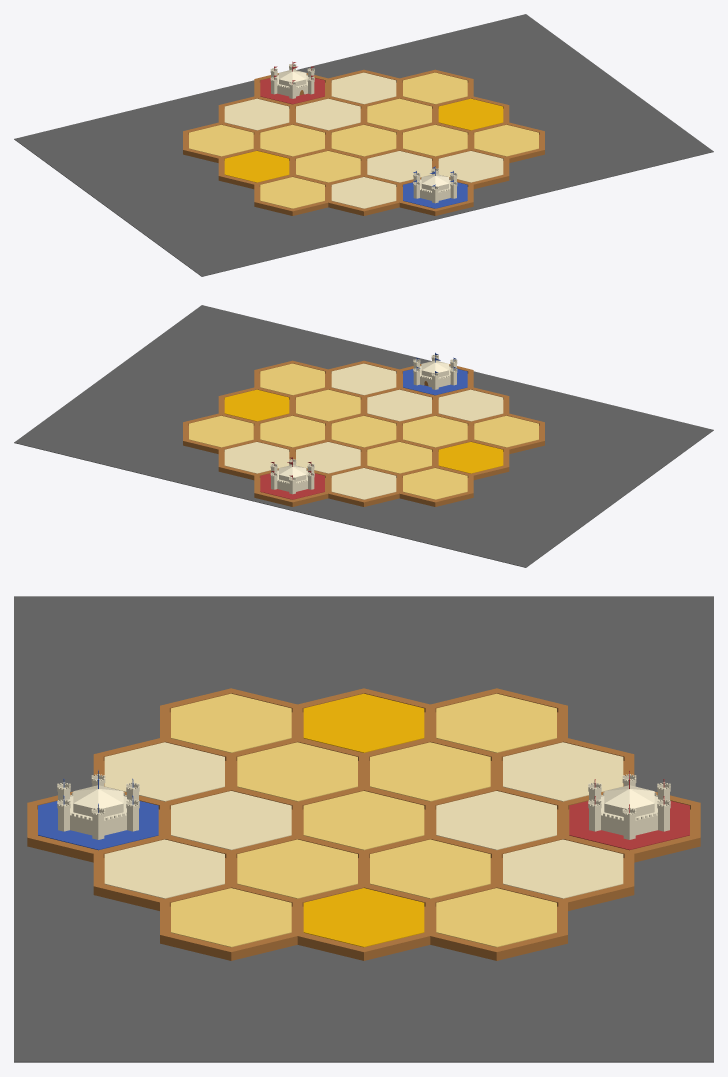
The model's file is r2c_board_n_castle.fbx.
3 views of the same model, one above another, from view 1: azimuth 30°, elevation 25°; view 2: azimuth 150°, elevation 25°; view 3: azimuth 270°, elevation 25° (orthographic). The views are drawn at different scales.
Visible parts, largest first — view 1: 개체_79, 개체_1, 개체_78, 개체_91, 개체_82, 개체_80, 개체_85, 개체_87, 개체_94, 개체_83, 개체_84, 개체_81 (+10 smaller); view 2: 개체_79, 개체_1, 개체_78, 개체_91, 개체_96, 개체_80, 개체_94, 개체_87, 개체_85, 개체_88, 개체_95, 개체_89 (+10 smaller); view 3: 개체_79, 개체_1, 개체_80, 개체_91, 개체_87, 개체_83, 개체_88, 개체_89, 개체_92, 개체_81, 개체_90, 개체_93 (+14 smaller).
Part boxes in pixels (left/top/right/bottom): 개체_79: left=14, top=14, right=713, bottom=276; 개체_1: left=183, top=69, right=544, bottom=213; 개체_78: left=183, top=82, right=544, bottom=215; 개체_91: left=224, top=151, right=289, bottom=182; 개체_82: left=331, top=72, right=396, bottom=104; 개체_80: left=438, top=98, right=503, bottom=130; 개체_85: left=224, top=98, right=289, bottom=130; 개체_87: left=331, top=125, right=396, bottom=156; 개체_94: left=331, top=177, right=396, bottom=208; 개체_83: left=367, top=98, right=431, bottom=130; 개체_84: left=296, top=98, right=360, bottom=130; 개체_81: left=403, top=72, right=467, bottom=104; 개체_79: left=14, top=305, right=713, bottom=567; 개체_1: left=183, top=360, right=544, bottom=504; 개체_78: left=183, top=373, right=544, bottom=506; 개체_91: left=438, top=442, right=503, bottom=473; 개체_96: left=331, top=363, right=396, bottom=395; 개체_80: left=224, top=389, right=289, bottom=421; 개체_94: left=438, top=389, right=503, bottom=421; 개체_87: left=331, top=416, right=396, bottom=447; 개체_85: left=331, top=468, right=396, bottom=499; 개체_88: left=296, top=389, right=360, bottom=421; 개체_95: left=367, top=389, right=431, bottom=421; 개체_89: left=367, top=442, right=431, bottom=473; 개체_79: left=14, top=596, right=713, bottom=1062; 개체_1: left=27, top=688, right=700, bottom=956; 개체_80: left=303, top=888, right=424, bottom=947; 개체_91: left=303, top=693, right=424, bottom=752; 개체_87: left=303, top=791, right=424, bottom=850; 개체_83: left=370, top=839, right=490, bottom=898; 개체_88: left=237, top=839, right=357, bottom=898; 개체_89: left=370, top=742, right=490, bottom=801; 개체_92: left=237, top=742, right=357, bottom=801; 개체_81: left=436, top=888, right=556, bottom=947; 개체_90: left=436, top=693, right=556, bottom=752; 개체_93: left=171, top=693, right=291, bottom=752.
Size of the model in its own units: 227 by 11.56 by 144.
